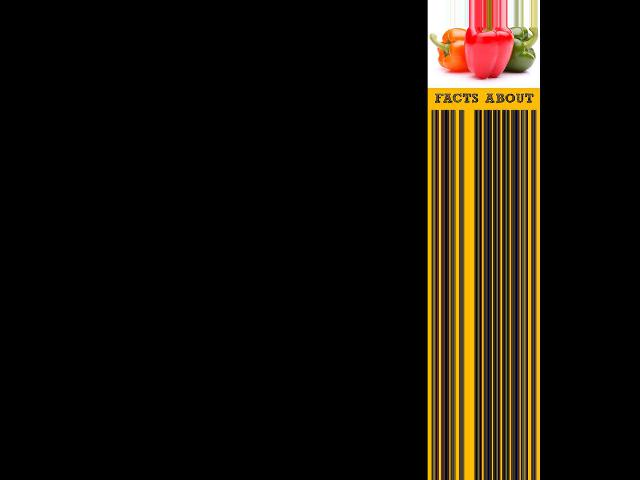bell_pepper: (510, 27, 538, 79)
